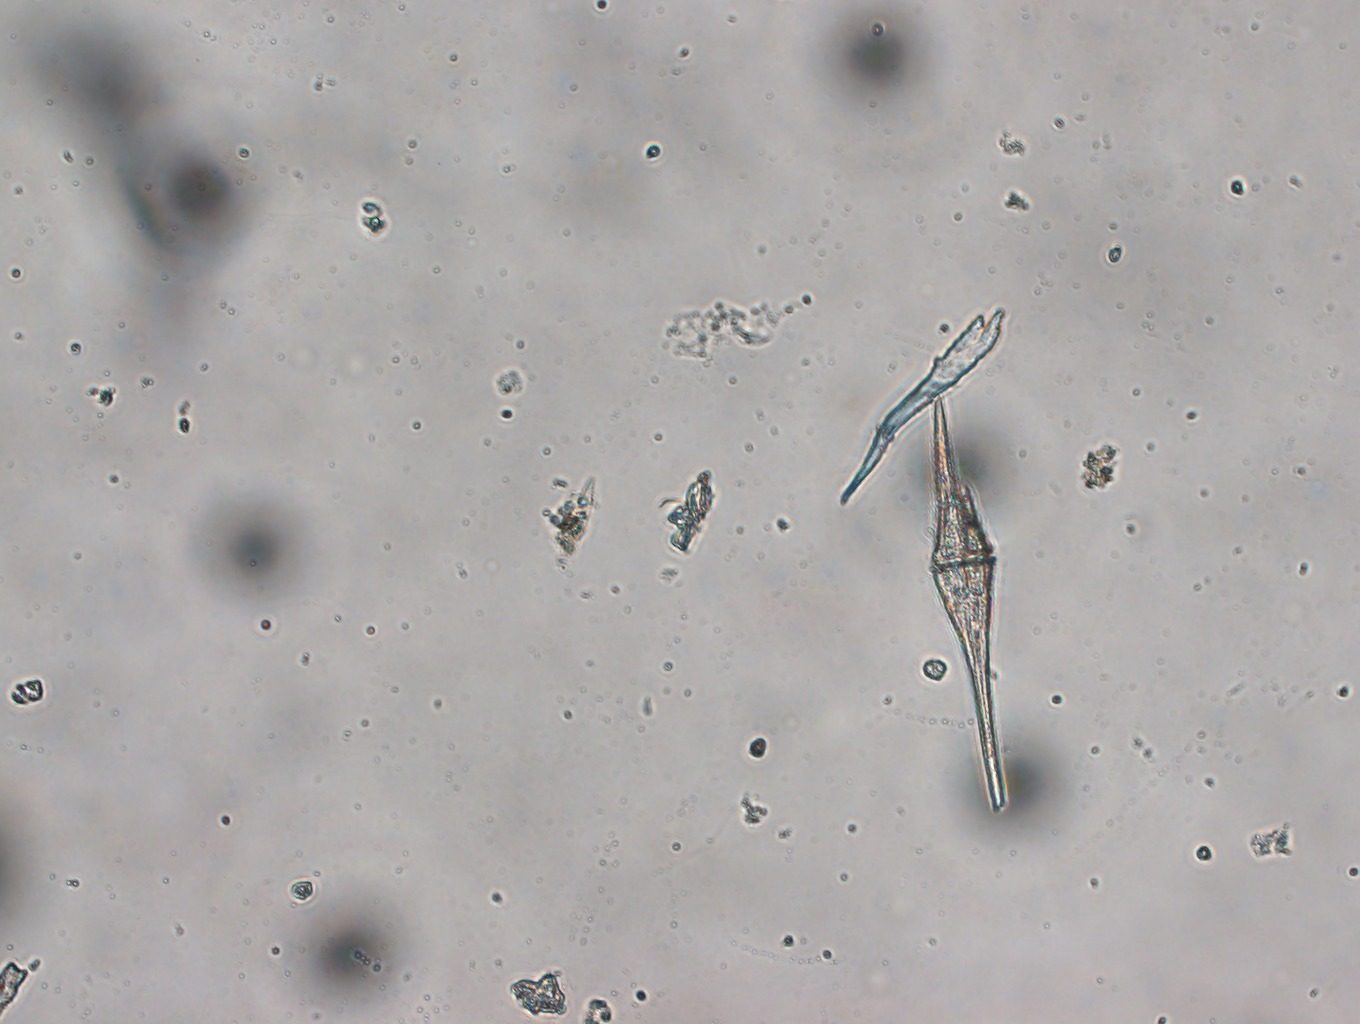ceratium furca: (926, 397, 1010, 819)
